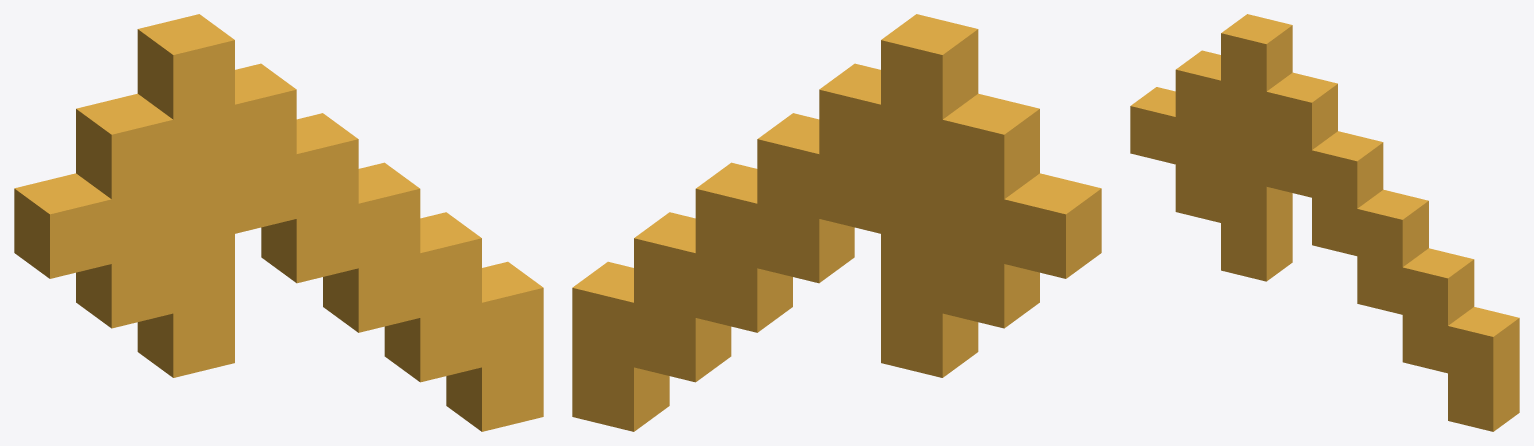
File: Axe-Orange.vox.obj
3 renders of one model, left to right at view 1: azimuth 30°, elevation 25°; view 2: azimuth 150°, elevation 25°; view 3: azimuth 330°, elevation 25°, orthographic. The views are drawn at different scales.
Bounding box in the file's own units: 0.8 × 0.7 × 0.1.
1 material, 1 textured.
